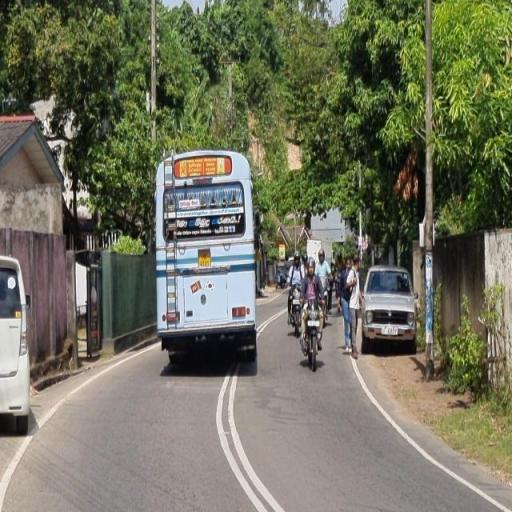double_white_line: (354, 355, 510, 510), (212, 378, 284, 511)
